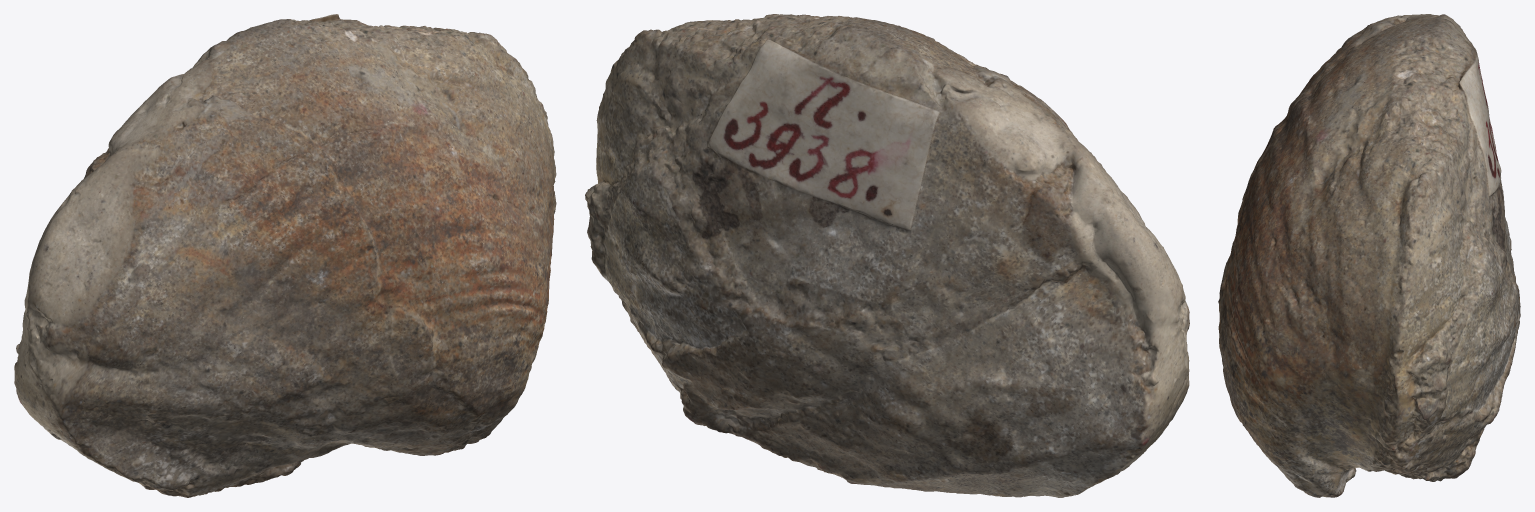
File: EWS0014122.glb
3 views of the same model, side by side, from view 1: azimuth 30°, elevation 25°; view 2: azimuth 150°, elevation 25°; view 3: azimuth 270°, elevation 25° (orthographic). The views are drawn at different scales.
Parts seen in each view (by area): view 1: input; view 2: input; view 3: input.
Part boxes in pixels (box(x1,y1,x2,y2)): input: box(14, 14, 556, 497); input: box(585, 14, 1189, 497); input: box(1218, 14, 1520, 497).
Size of the model in its own units: 0.0378 by 0.0291 by 0.0189.
Materials: 1 (1 with a texture image).
